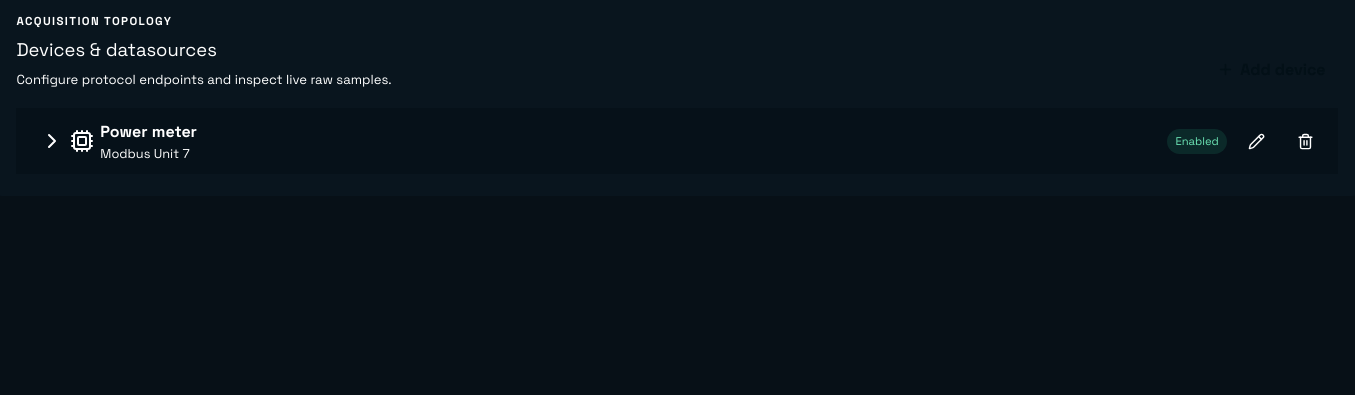
Scenario: DeviceWorkspace › clears a saved datasource sample when a retry fails
Click the button "Power meter Modbus Unit 7": (149, 131) x1=28 y1=120 x2=1168 y2=163
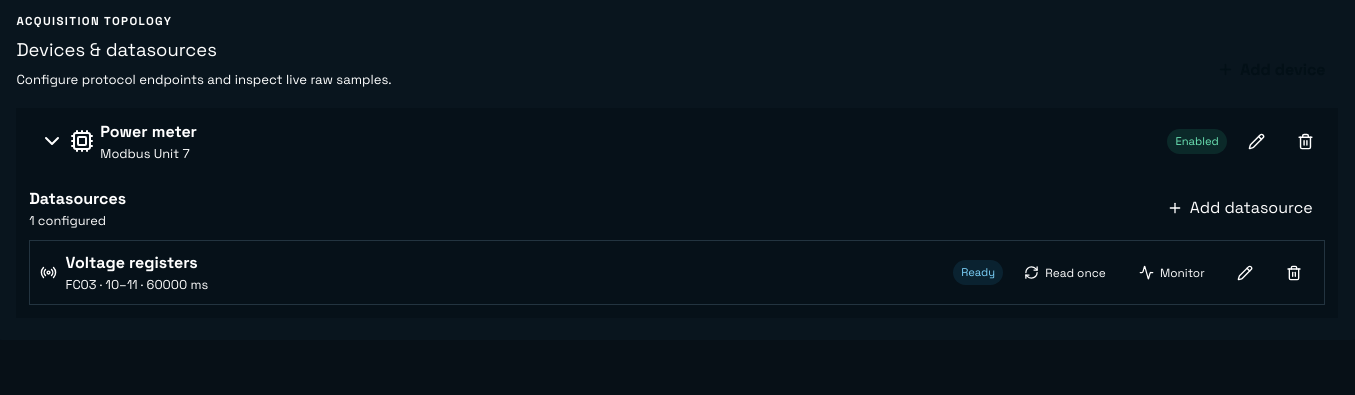
Click the button "Read once": (1065, 273) x1=1012 y1=256 x2=1118 y2=289
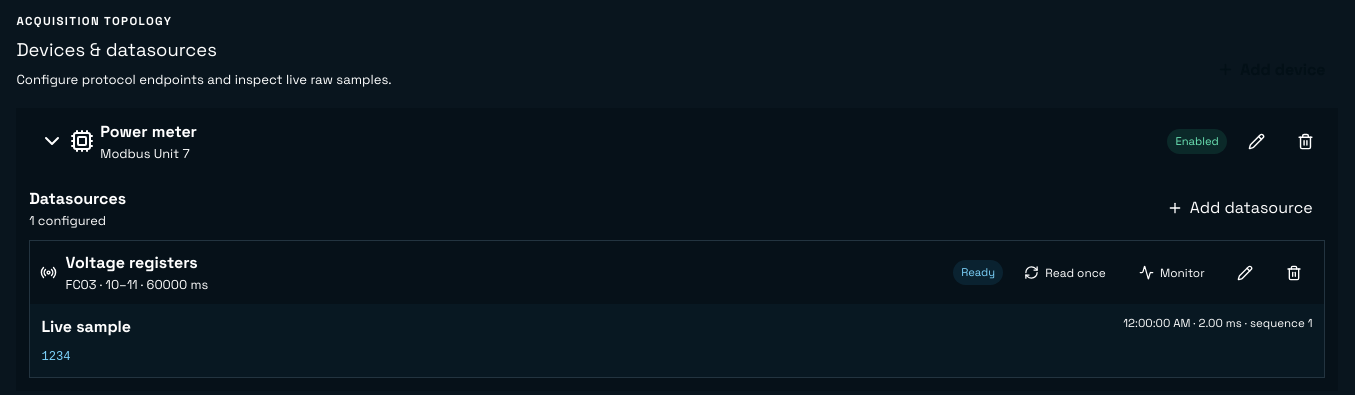
Check: the text "1234" is shown, box x1=41 y1=350 x2=71 y2=364
Click the button "Read once": (1065, 273) x1=1012 y1=256 x2=1118 y2=289
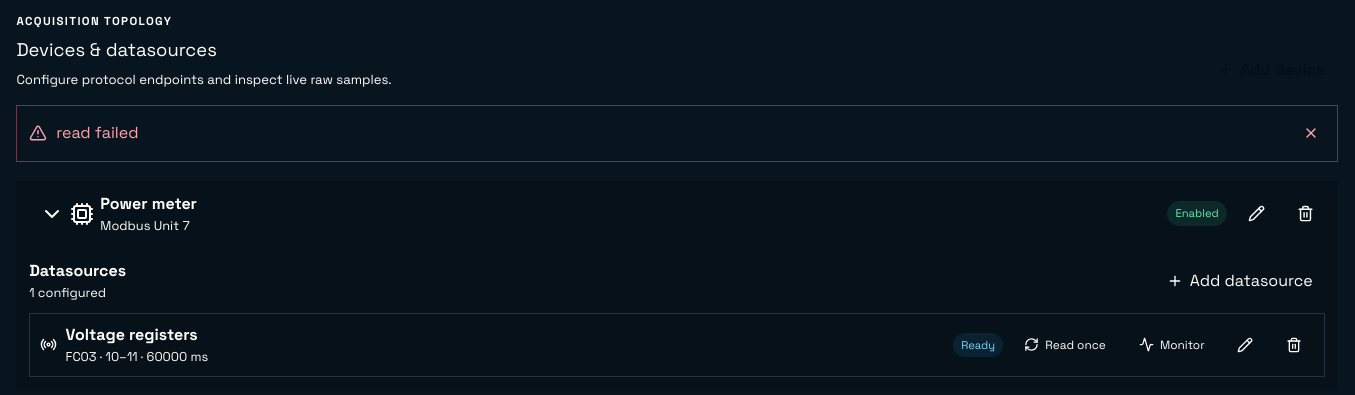
Check: the message reads "read failed", box x1=56 y1=122 x2=139 y2=144
Check: the text "1234" is gone
